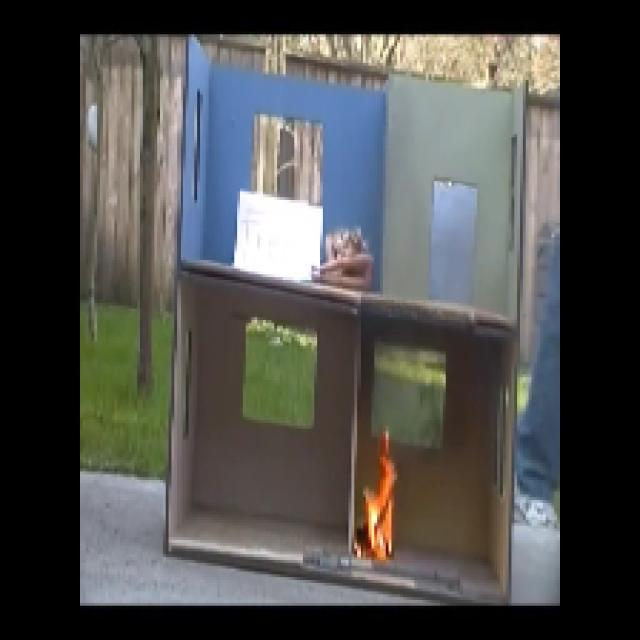Fire: (360, 448, 410, 569)
